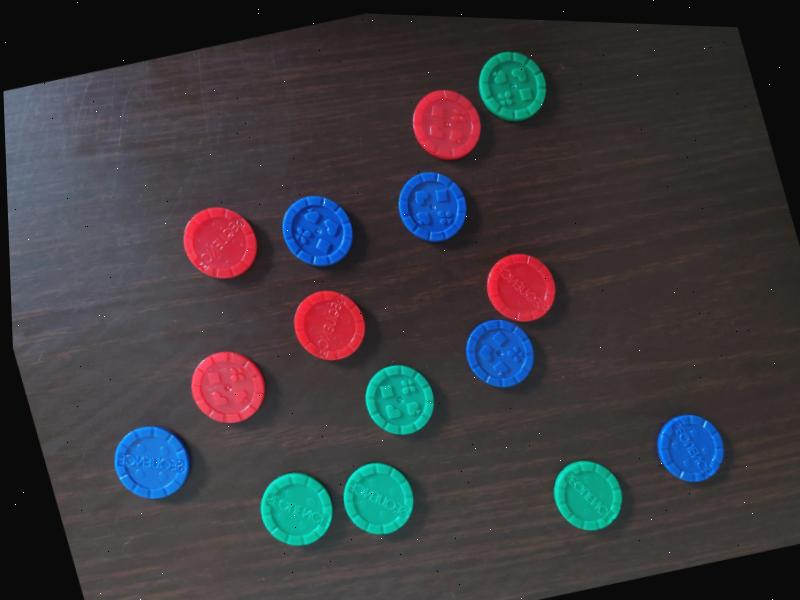Blue_Token: (98, 410, 203, 517), (378, 152, 481, 256), (642, 397, 746, 499), (267, 179, 366, 283), (452, 304, 549, 400)
Green_Token: (243, 455, 348, 562), (328, 446, 436, 550), (537, 445, 638, 545), (350, 349, 449, 449), (465, 35, 562, 134)
Red_Token: (176, 334, 282, 440), (164, 191, 270, 295), (278, 272, 383, 374), (469, 235, 569, 336), (397, 75, 494, 175)
